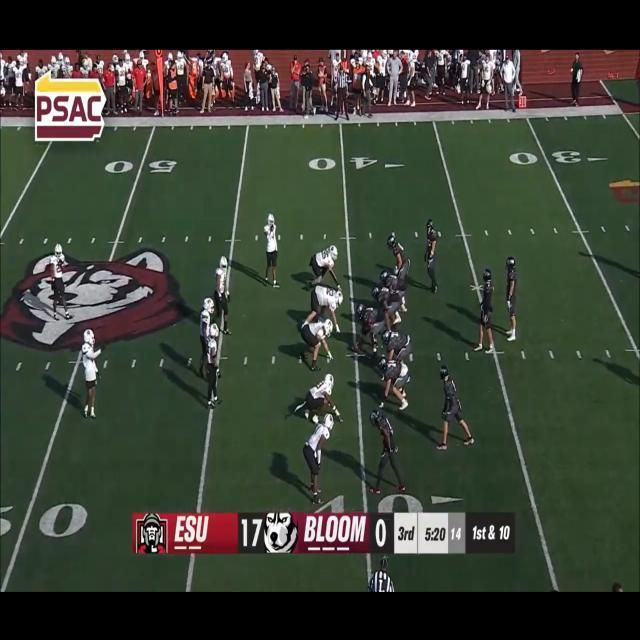football: (351, 344, 362, 354)
